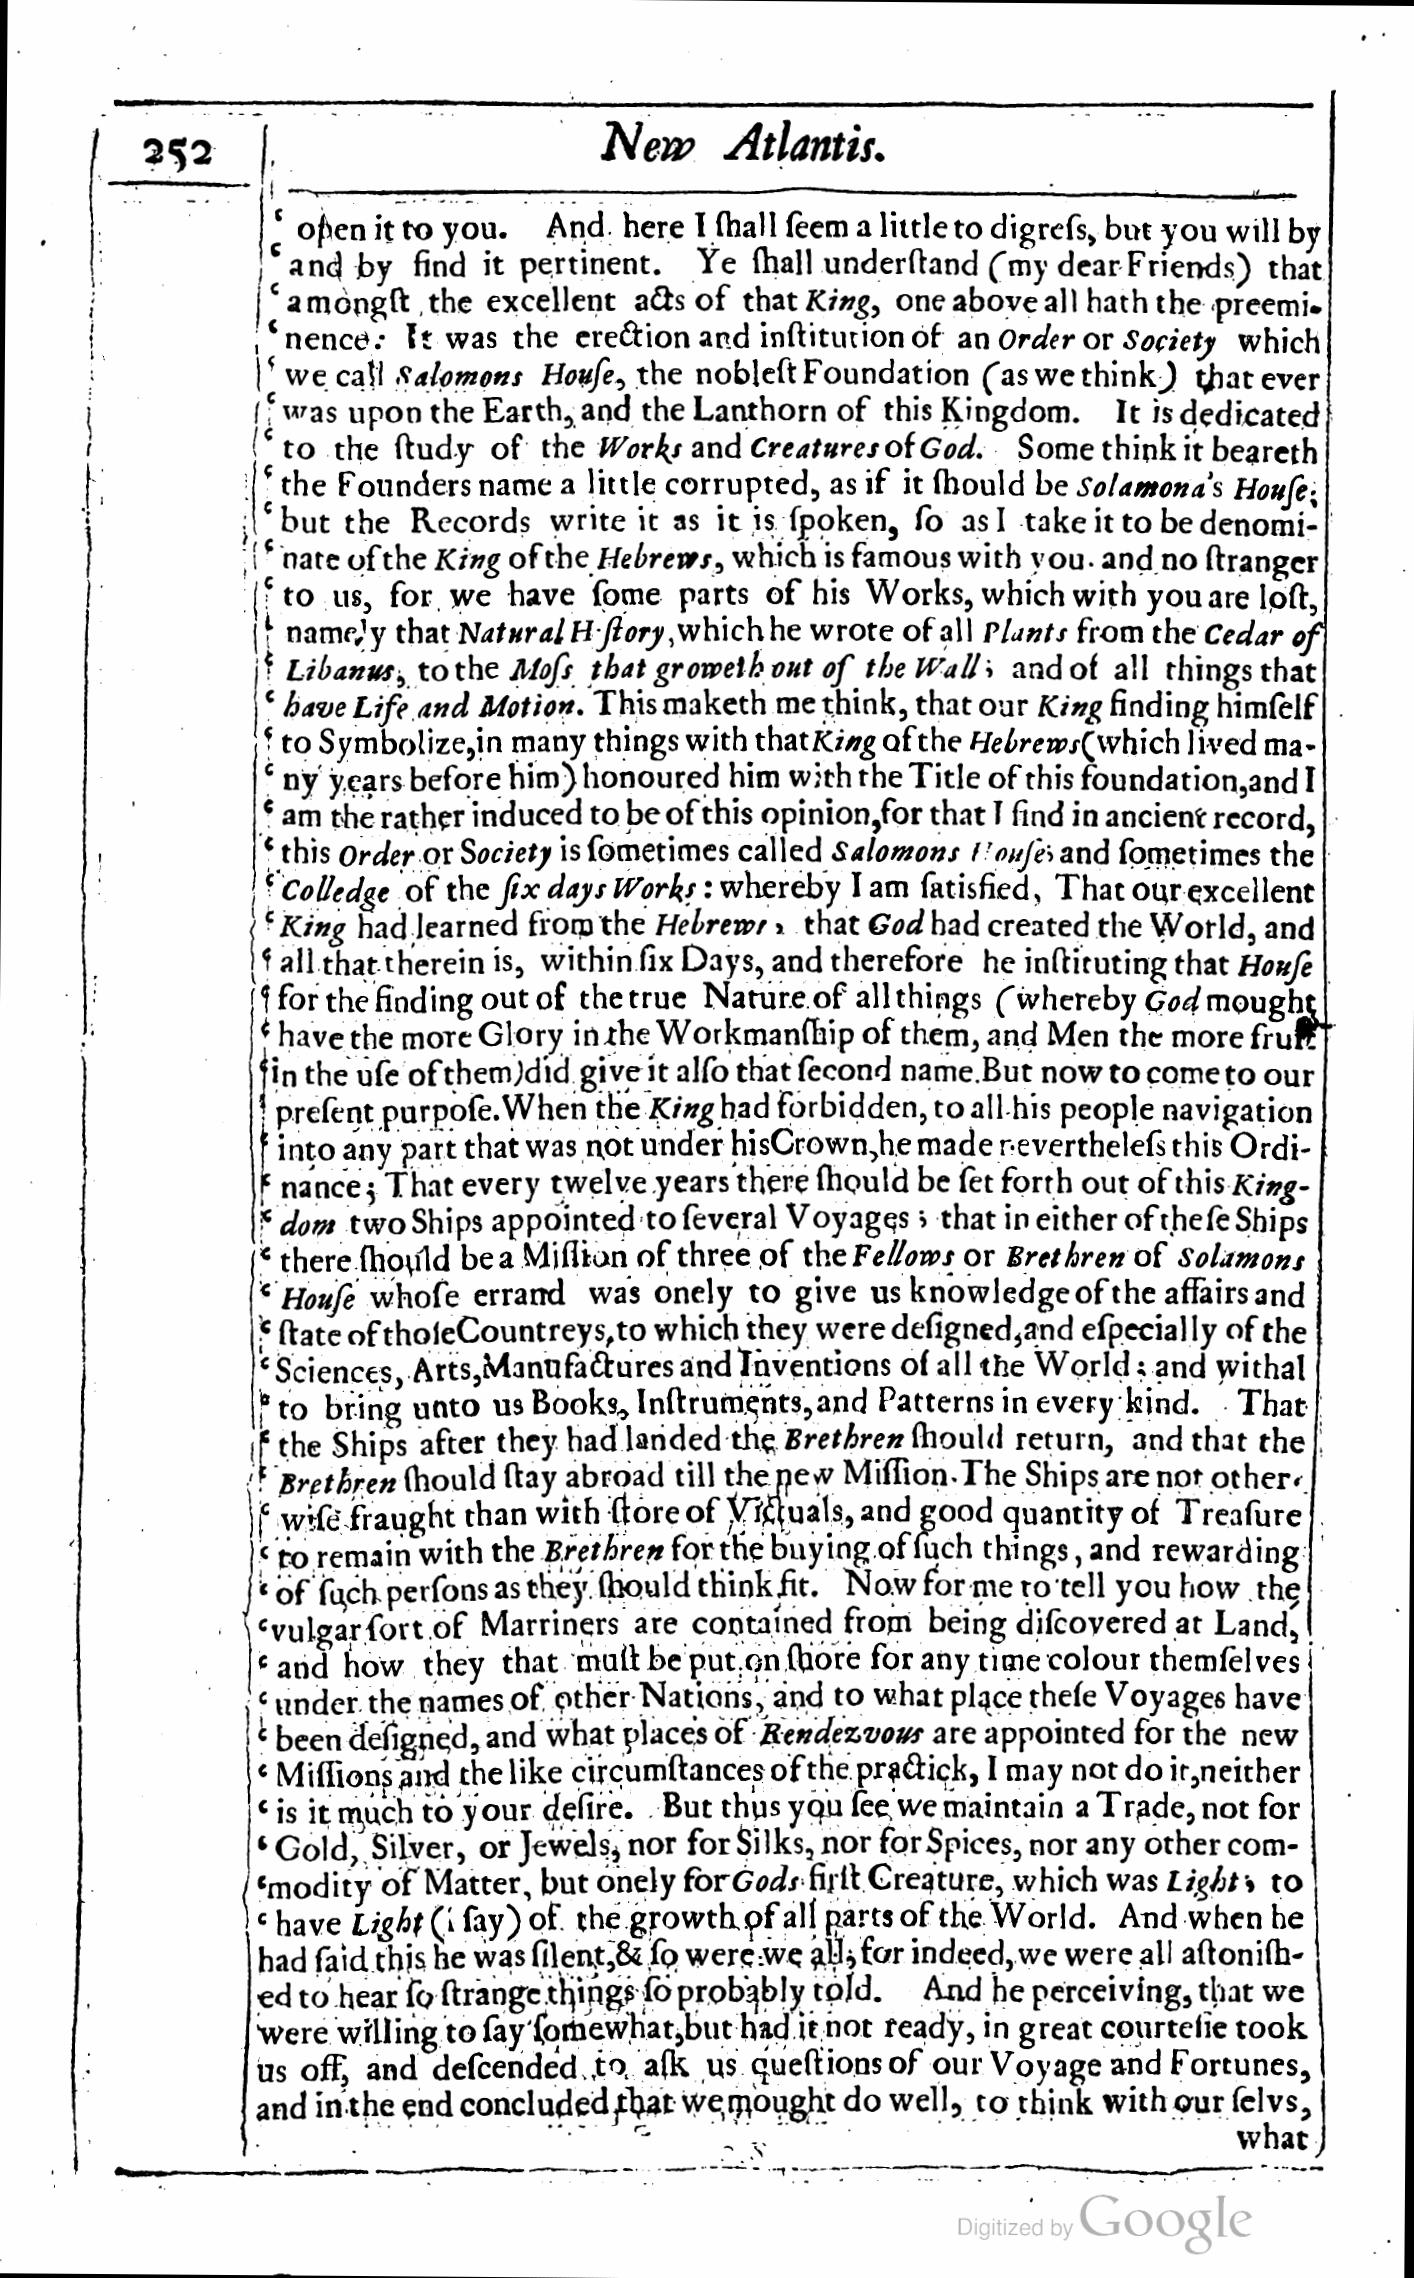catchword: (1230, 2120, 1313, 2156)
header: (593, 107, 893, 181)
page_num: (134, 124, 230, 176)
top_p: (243, 197, 1320, 2120)
